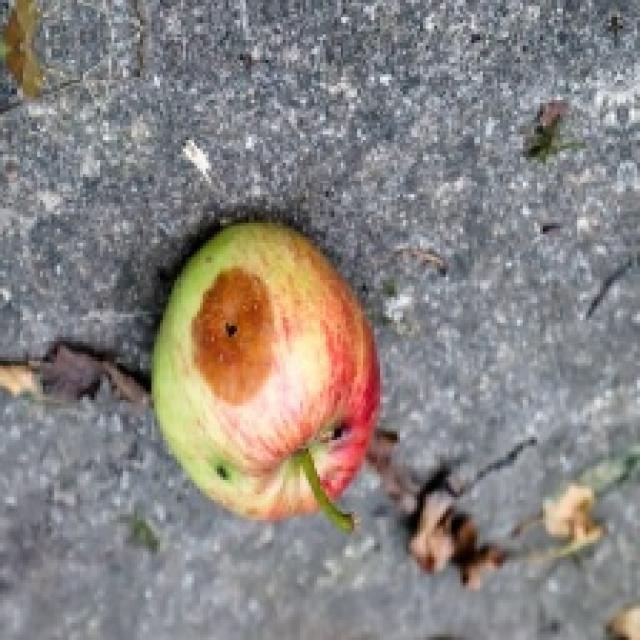rotten_apple: (154, 224, 376, 516)
